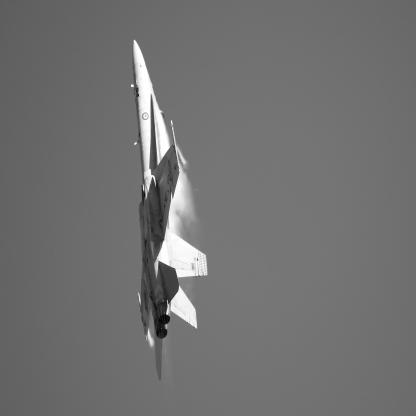F18: (132, 41, 209, 382)
